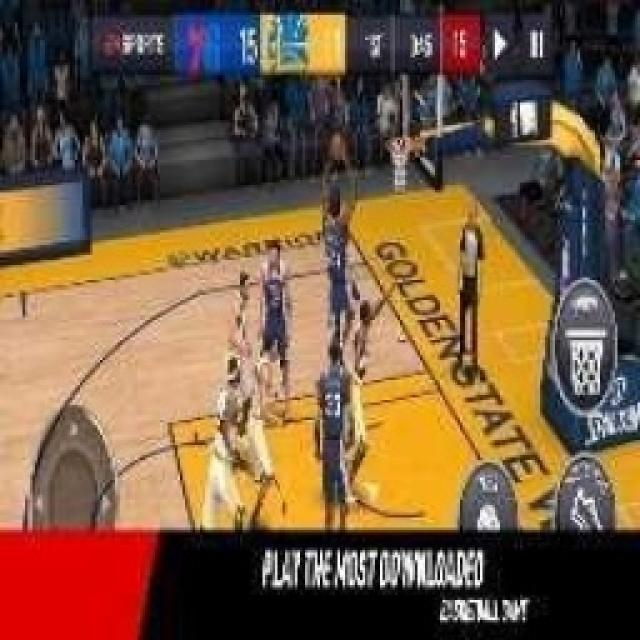rim: (326, 131, 350, 162)
